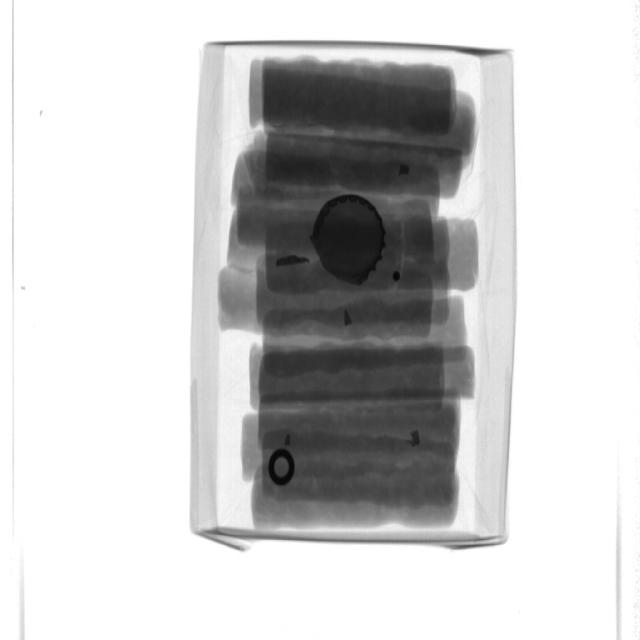ym: (312, 194, 387, 289), (269, 448, 296, 488), (276, 253, 311, 266), (413, 431, 422, 448), (345, 310, 354, 327), (285, 433, 294, 447), (399, 166, 410, 177), (393, 273, 401, 283)
